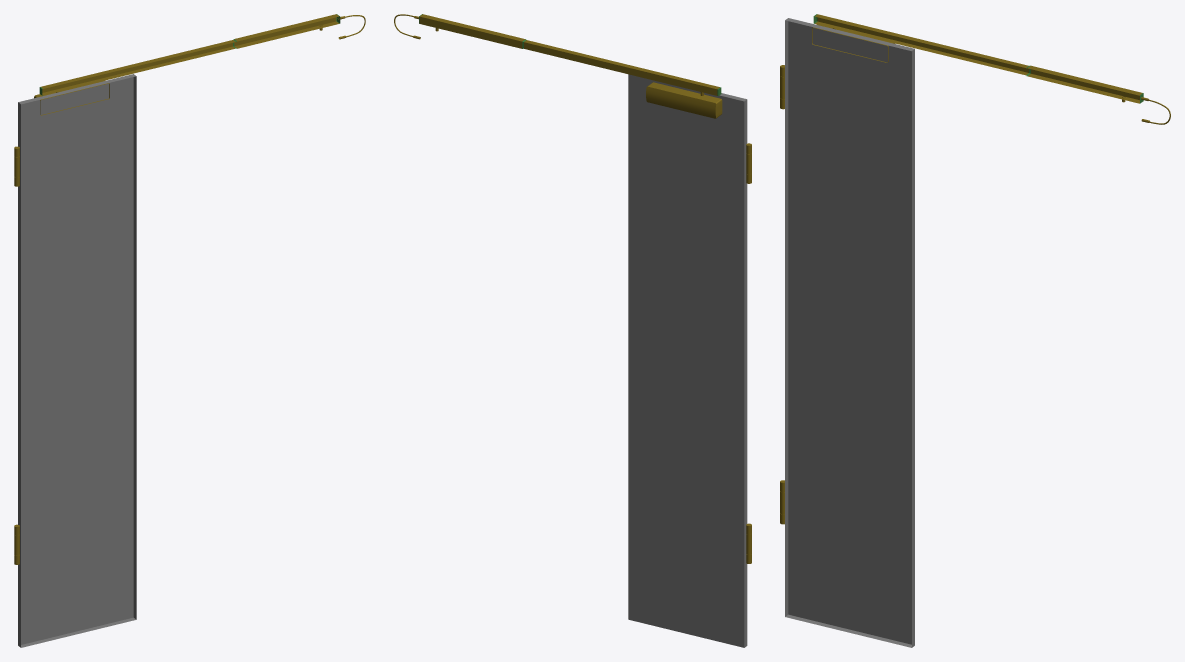
The model's file is SM_Door_Right_Frame.fbx.
The picture shows the model from 3 angles, left to right: view 1: azimuth 30°, elevation 25°; view 2: azimuth 150°, elevation 25°; view 3: azimuth 330°, elevation 25°; orthographic projection. The views are drawn at different scales.
Parts seen in each view (by area): view 1: SM_Door_Right_Frame; view 2: SM_Door_Right_Frame; view 3: SM_Door_Right_Frame.
Part boxes in pixels (box(x1,y1,x2,y2)): SM_Door_Right_Frame: box(14, 14, 365, 647); SM_Door_Right_Frame: box(394, 14, 751, 647); SM_Door_Right_Frame: box(780, 14, 1170, 647).
Bounding box in the file's own units: 153 × 228 × 7.3.
